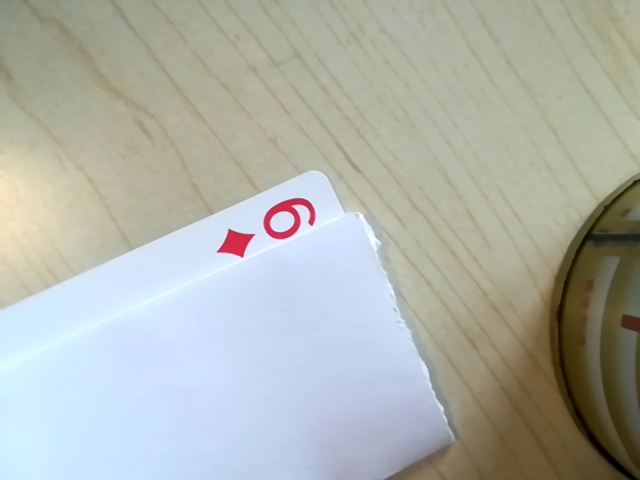fk 6: (213, 193, 328, 259)
